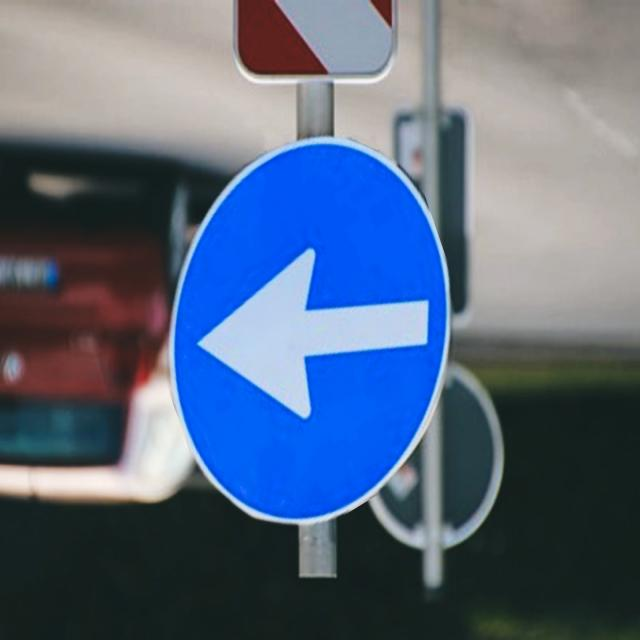Turn Left: (168, 136, 451, 527)
